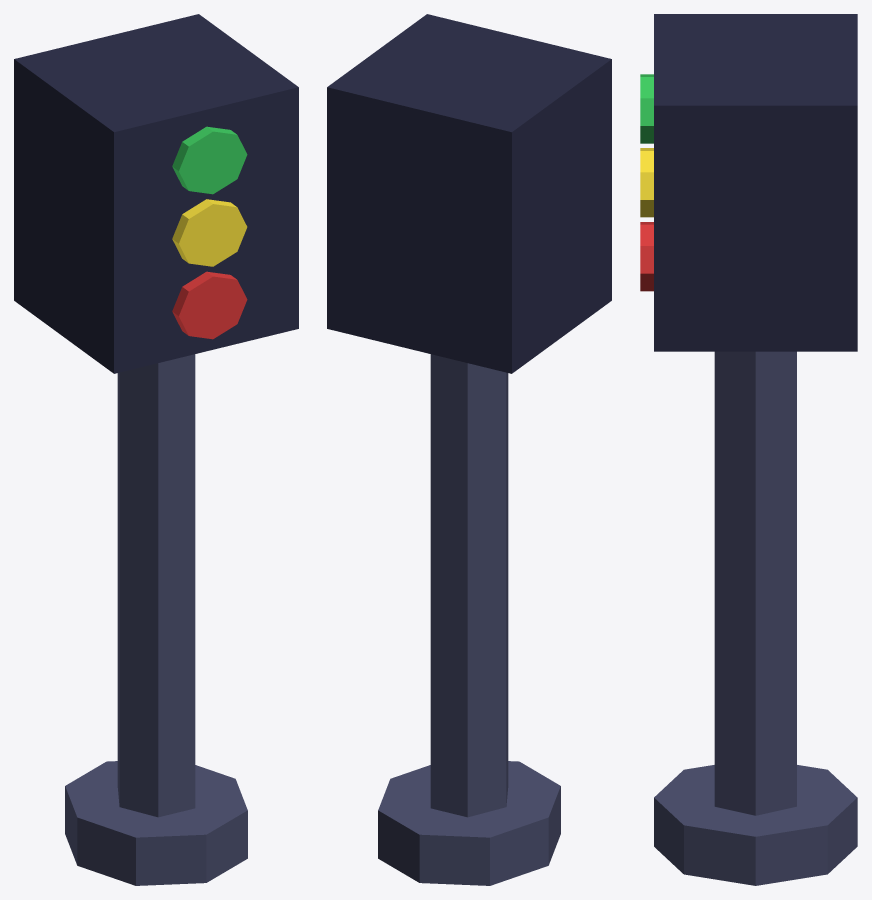
Rendered from env_r8_traffic_light.glb.
The picture shows the model from 3 angles, left to right: view 1: azimuth 30°, elevation 25°; view 2: azimuth 150°, elevation 25°; view 3: azimuth 270°, elevation 25°; orthographic projection.
Parts seen in each view (by area): view 1: env_r8_traffic_light; view 2: env_r8_traffic_light; view 3: env_r8_traffic_light.
Boxes of the visible parts, x1,y1,x2,y2 form: env_r8_traffic_light: (14,14,298,885); env_r8_traffic_light: (327,14,611,885); env_r8_traffic_light: (640,14,857,885).
Size of the model in its own units: 0.8 by 3.2 by 0.8.
1 material, 1 textured.
